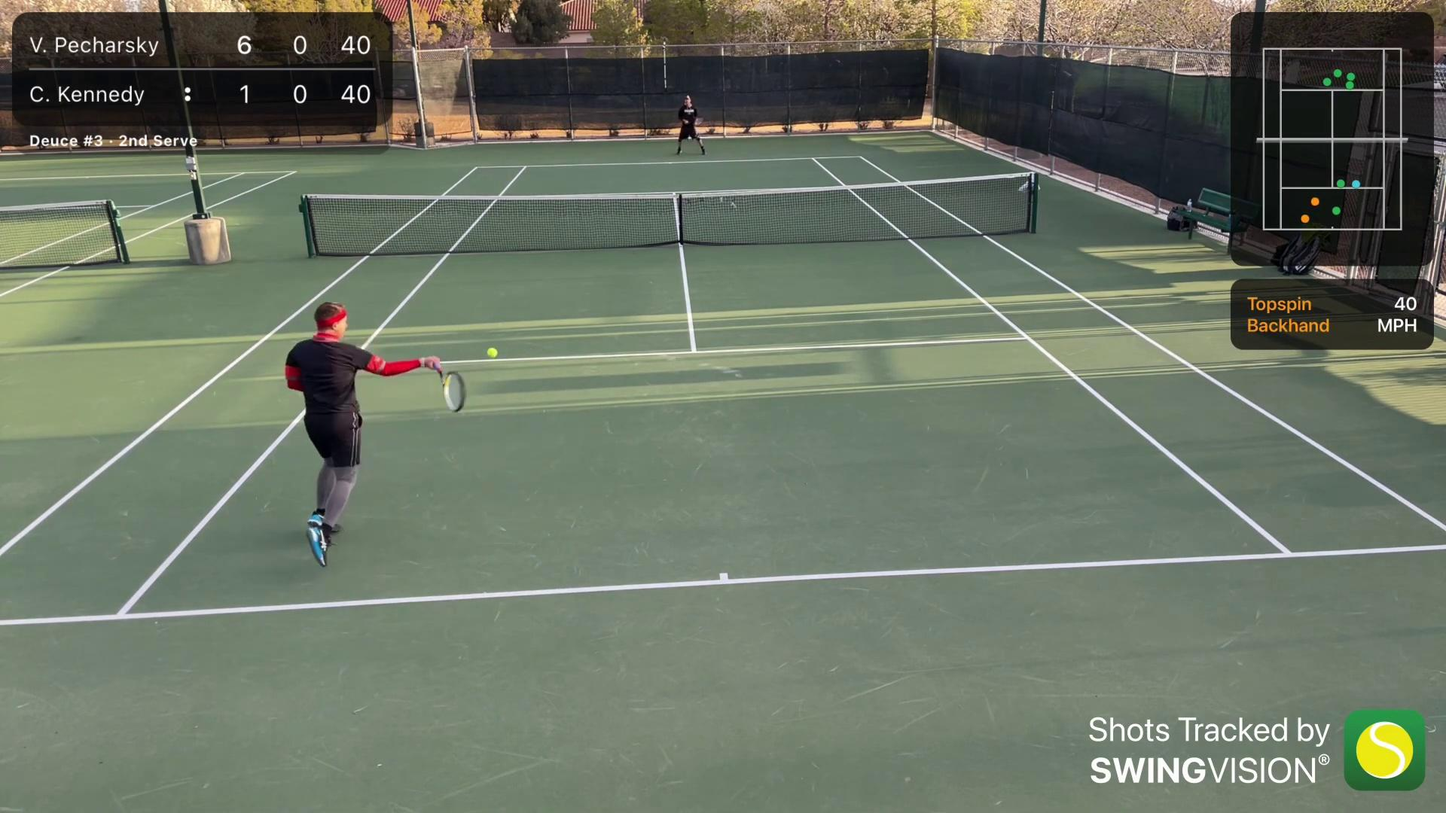ball: (480, 345, 499, 363)
